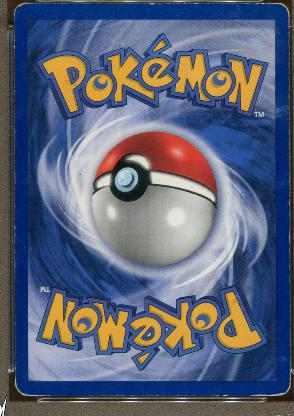Card: (10, 0, 292, 402)
Corner Wear: (265, 373, 291, 399), (13, 376, 44, 396), (270, 2, 291, 24), (11, 1, 30, 21)
Edge Wear: (145, 2, 270, 6), (87, 394, 227, 396), (286, 59, 288, 167), (14, 170, 16, 258), (287, 302, 290, 356), (287, 230, 289, 298), (287, 172, 289, 216), (13, 25, 15, 60), (246, 394, 268, 396), (14, 312, 16, 332), (210, 394, 227, 396), (13, 128, 15, 138)
Scratch: (272, 102, 284, 122), (274, 178, 284, 188), (20, 58, 28, 70)
